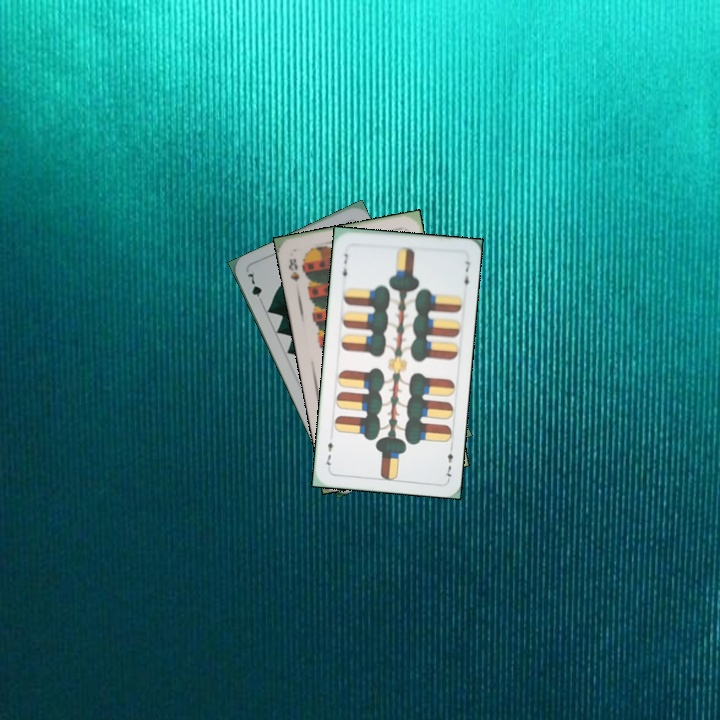E7: (441, 441, 456, 481), (338, 249, 351, 283)
G7: (243, 269, 266, 307)
S8: (285, 254, 302, 284)
